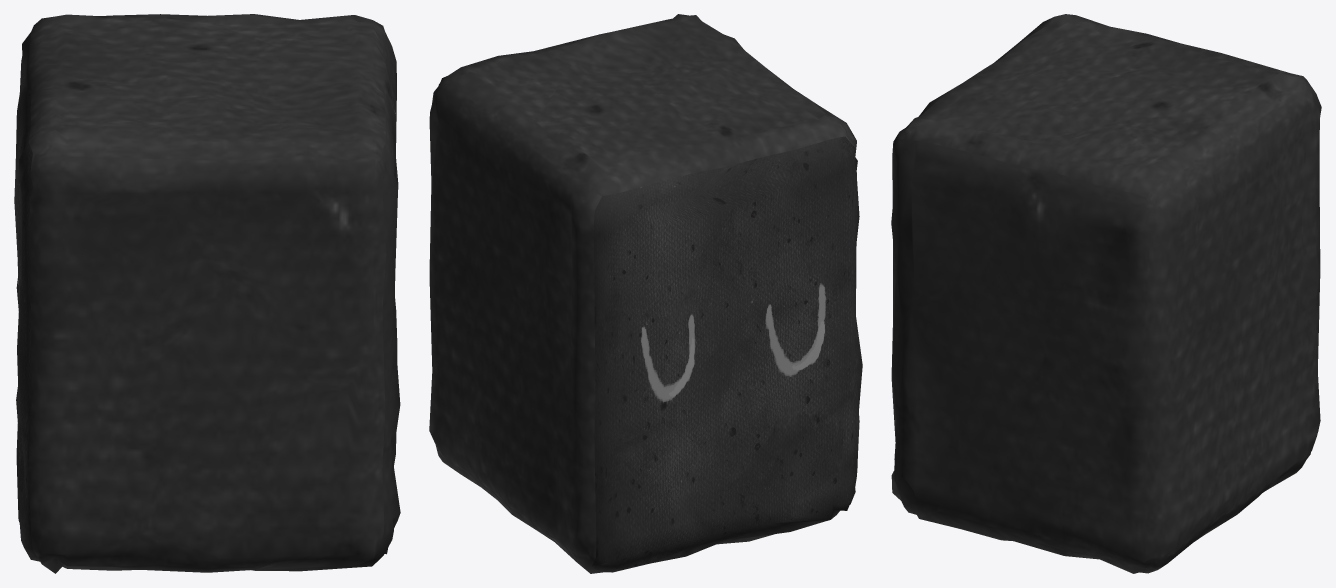
The model's file is 0415_koong_sleep.fbx.
3 views of the same model, side by side, from view 1: azimuth 30°, elevation 25°; view 2: azimuth 150°, elevation 25°; view 3: azimuth 270°, elevation 25° (orthographic). The views are drawn at different scales.
Parts seen in each view (by area): view 1: sleep; view 2: sleep; view 3: sleep.
Part boxes in pixels (x1=…): sleep: x1=14, y1=14, x2=400, y2=573; sleep: x1=429, y1=14, x2=862, y2=573; sleep: x1=891, y1=14, x2=1321, y2=573.
Size of the model in its own units: 769 by 787 by 755.
